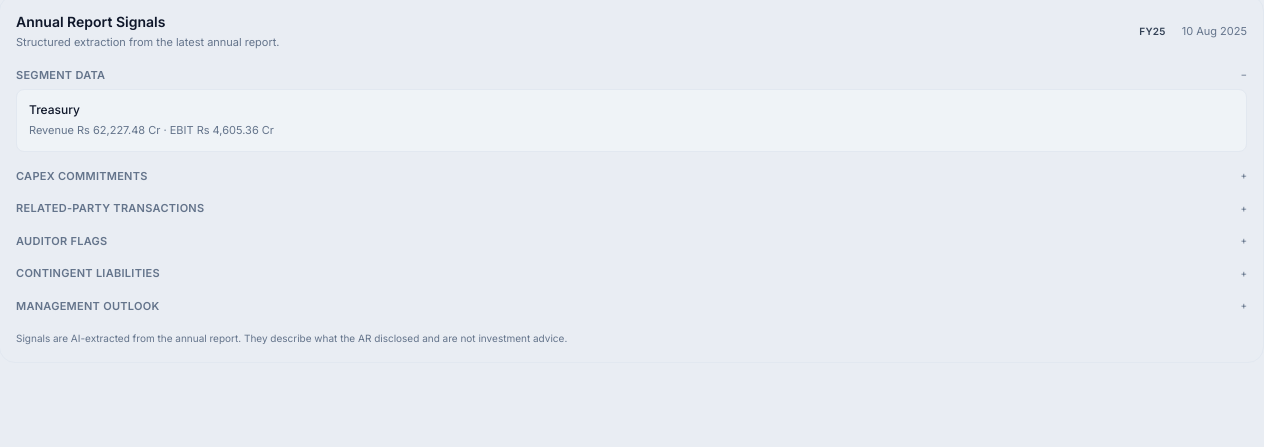
Scenario: ARSignalsPanel — original six sub-panels › renders RPT `party` field (not the literal placeholder 'counterparty')
Click the button "Related-party transactions +": (110, 208) [16, 200, 1247, 216]
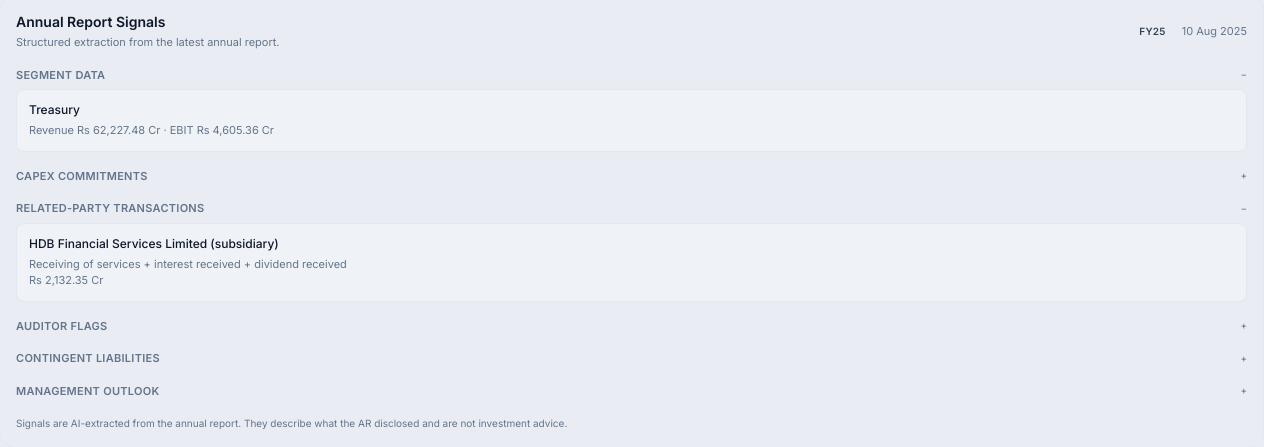
Expected: the element with test id "ar-section-rpt" shows "HDB Financial Services", [29, 236, 279, 250]
